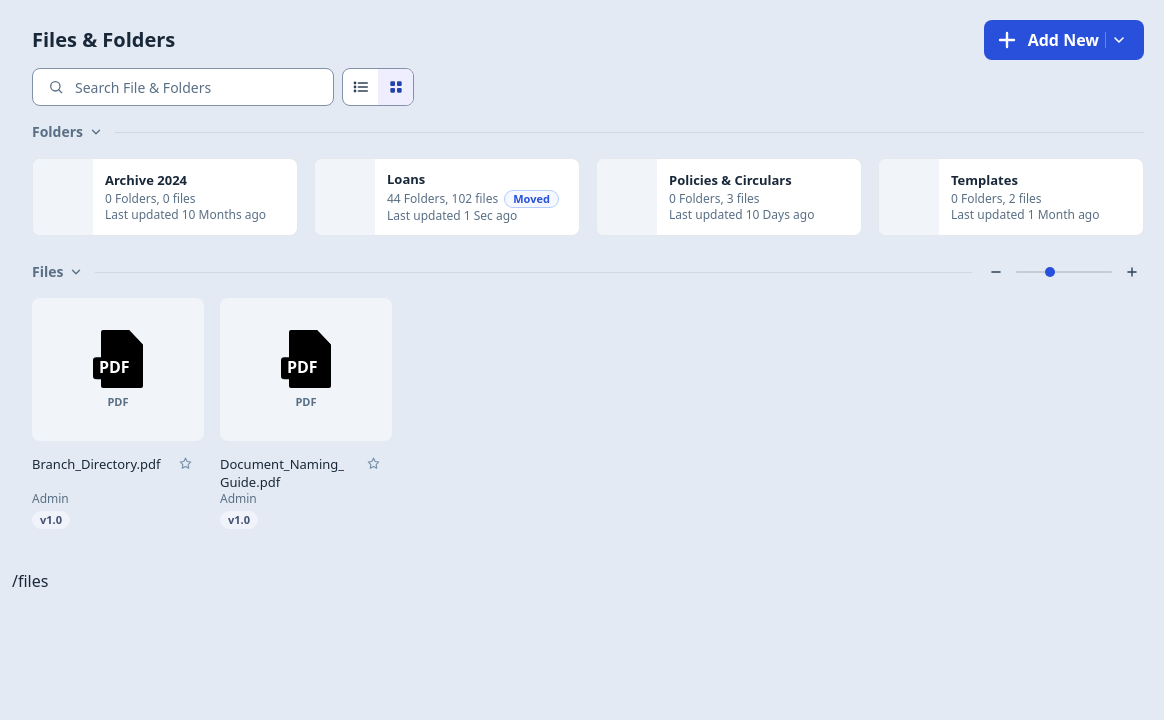
Test: the "Moved" mark › can be followed down from the top after a submission, and goes from each folder as it is opened
The image size is (1164, 720).
Expected: the text "Moved" is shown, top-left (504, 190), bottom-right (559, 208)
Step 1. Click the link "Loans 44 Folders, 102 files Moved Last updated 1 Sec ago" → (447, 197), box top-left (314, 158), bottom-right (580, 236)
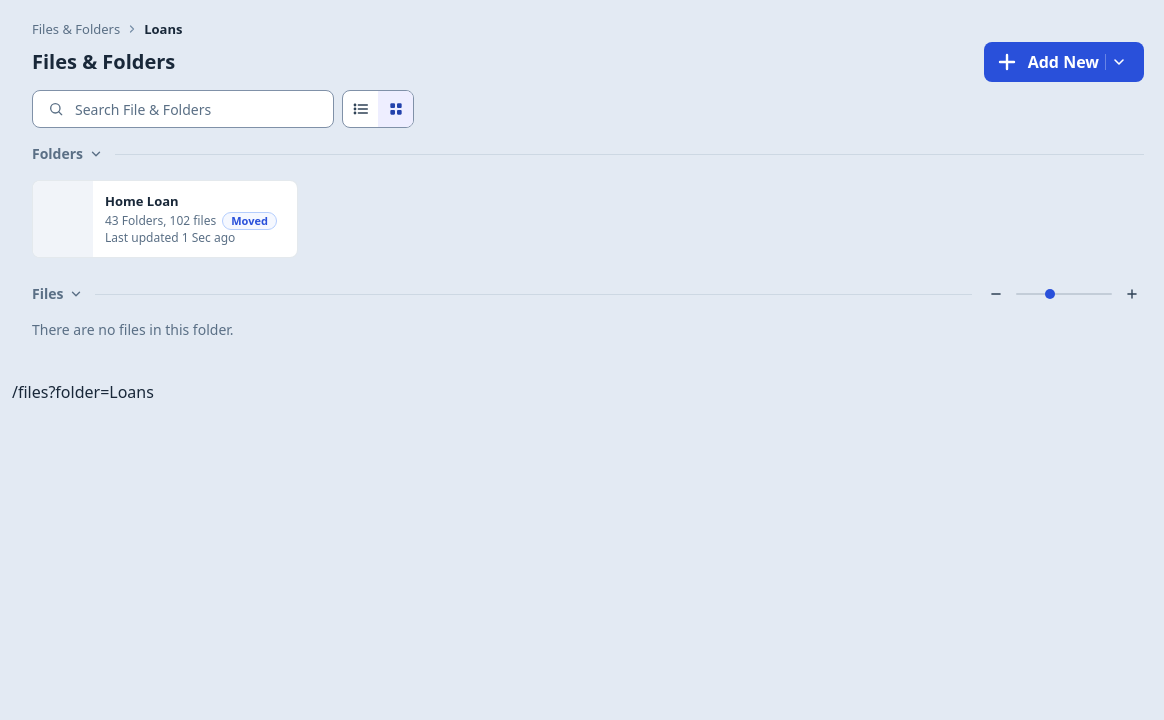
Expected: the text "Moved" is shown, top-left (222, 212), bottom-right (277, 230)
Step 2. Click the link "Home Loan 43 Folders, 102 files Moved Last updated 1 Sec ago" → (165, 219), box top-left (32, 180), bottom-right (298, 258)
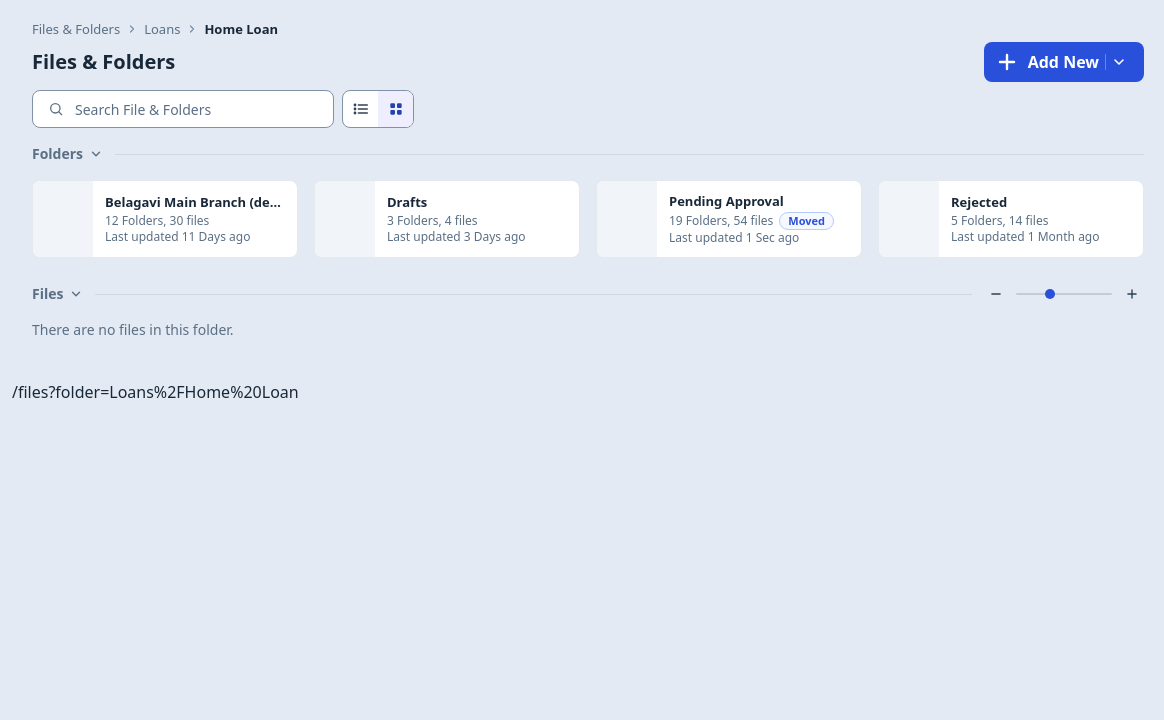
Expected: the text "Moved" is shown, top-left (779, 212), bottom-right (834, 230)
Step 3. Click the link "Pending Approval" → (729, 219), box top-left (596, 180), bottom-right (862, 258)
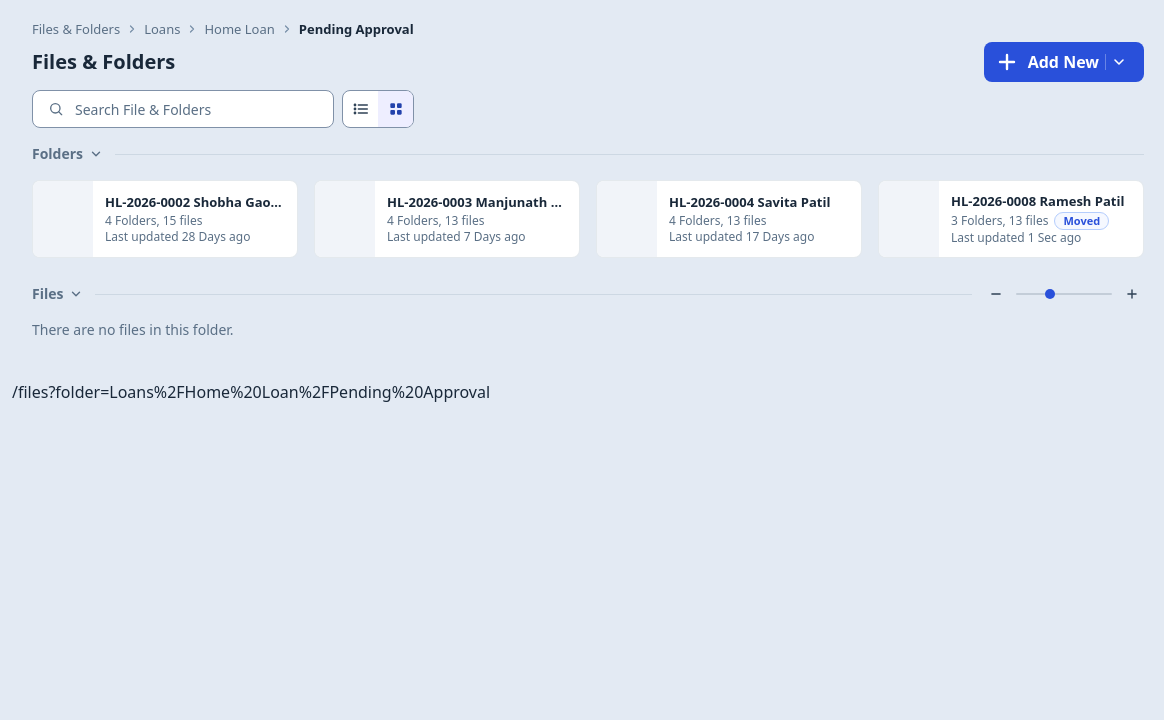
Step 4. Click the link that starts with "HL-2026-0008 Ramesh Patil" → (1011, 219), box top-left (878, 180), bottom-right (1144, 258)
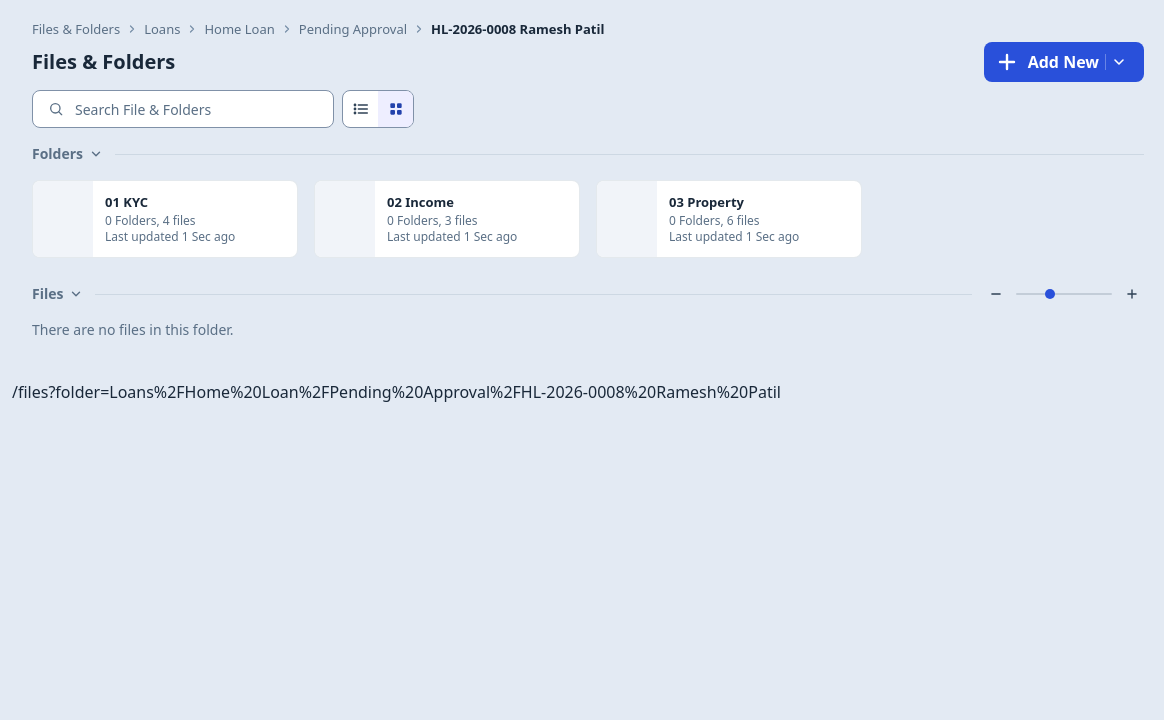
Result: the link "Moved" is gone
